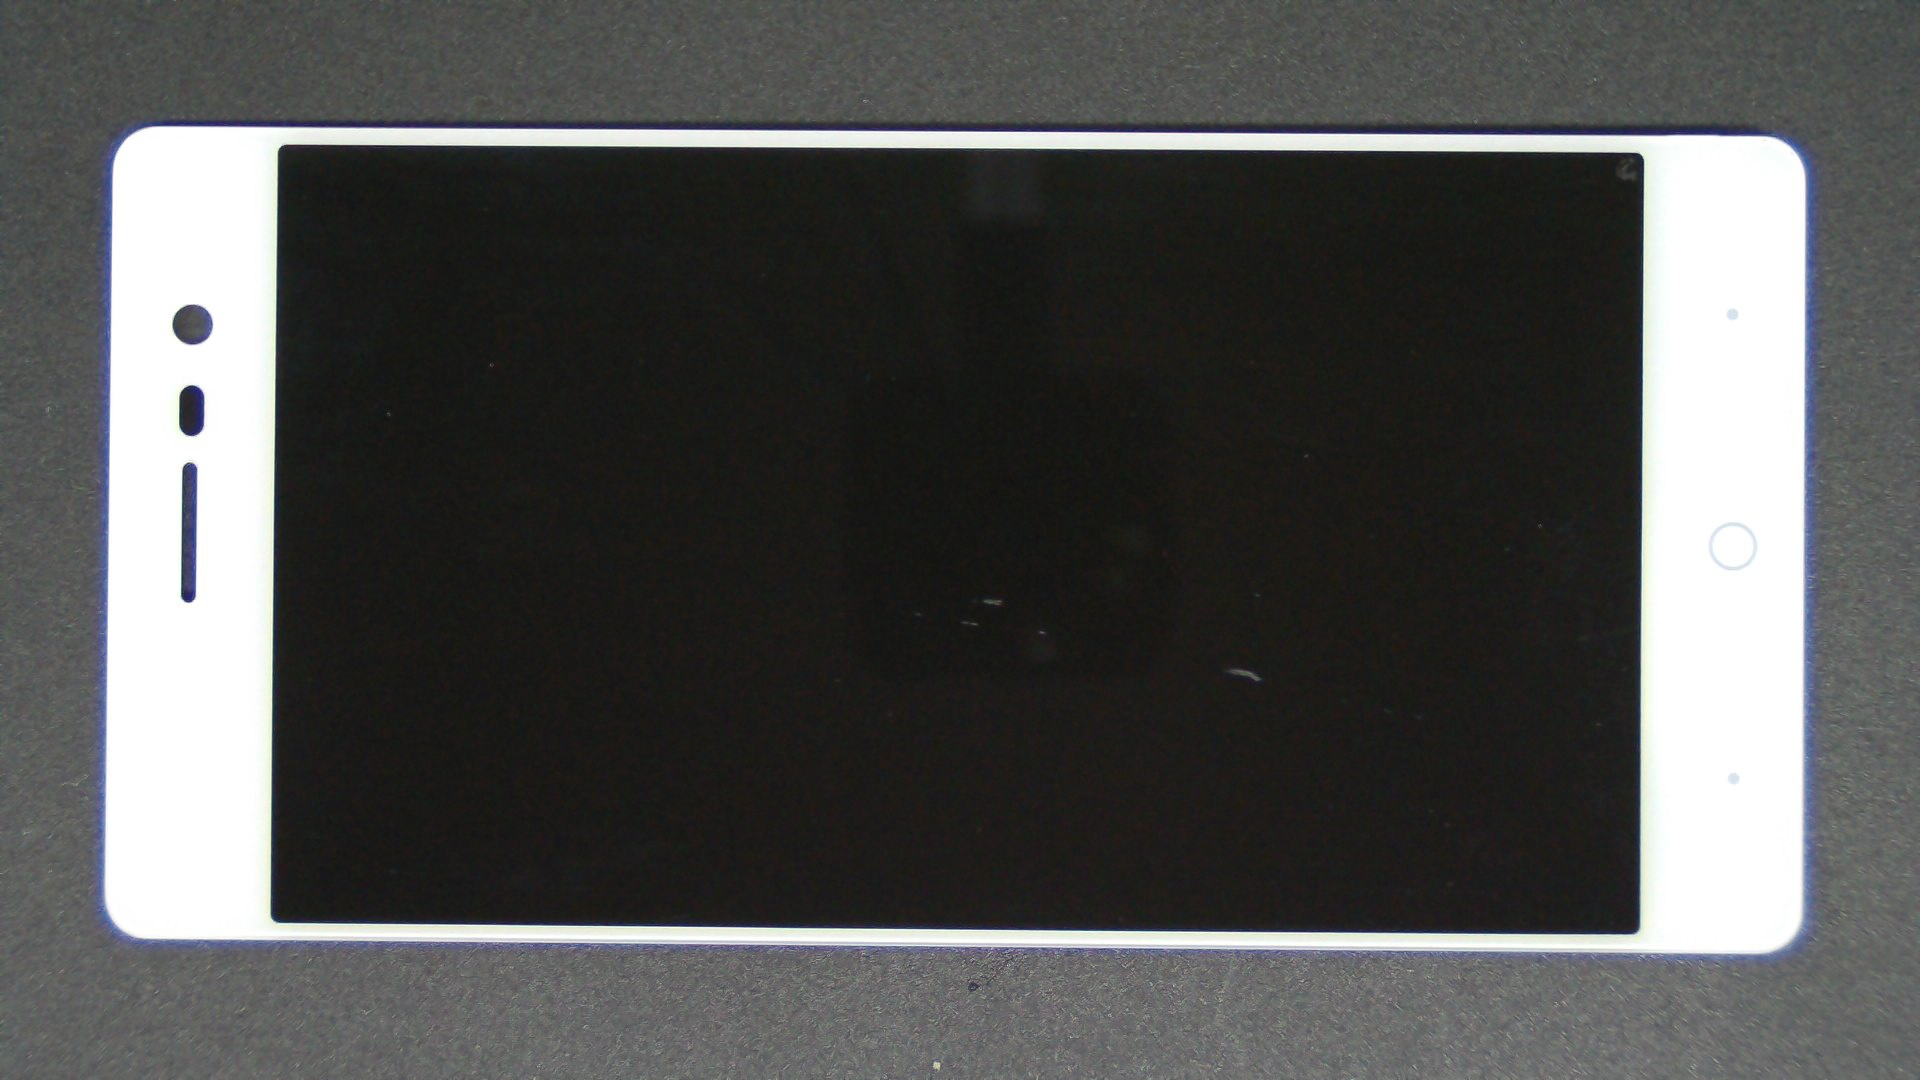oil: (617, 332, 1847, 1001), (483, 310, 1444, 931), (496, 298, 1486, 898)
